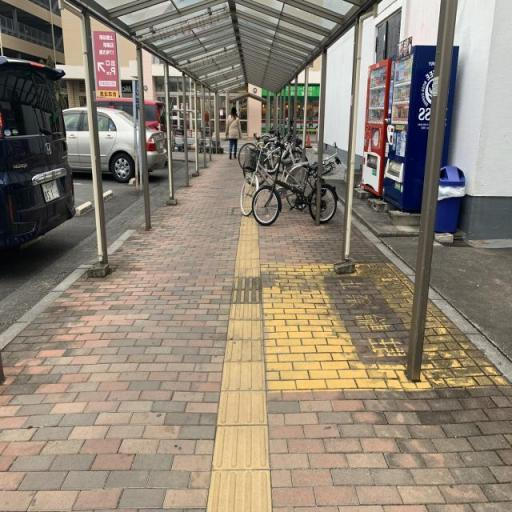line: (210, 424, 273, 473), (204, 470, 272, 511), (215, 390, 266, 425), (219, 361, 267, 393), (222, 338, 265, 363), (225, 319, 264, 341), (228, 303, 262, 319)
